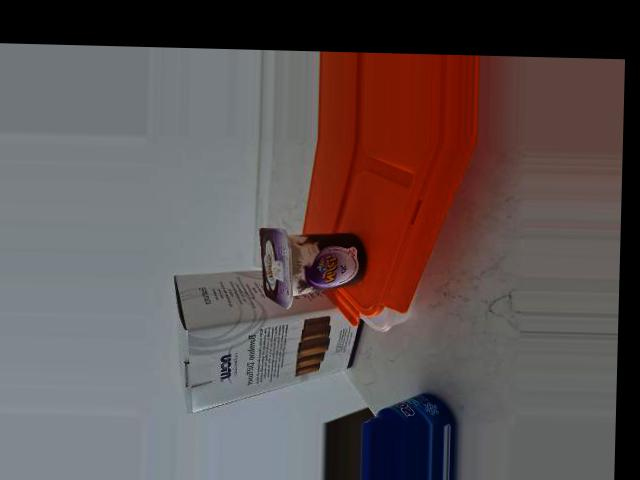milky: (262, 220, 370, 310)
